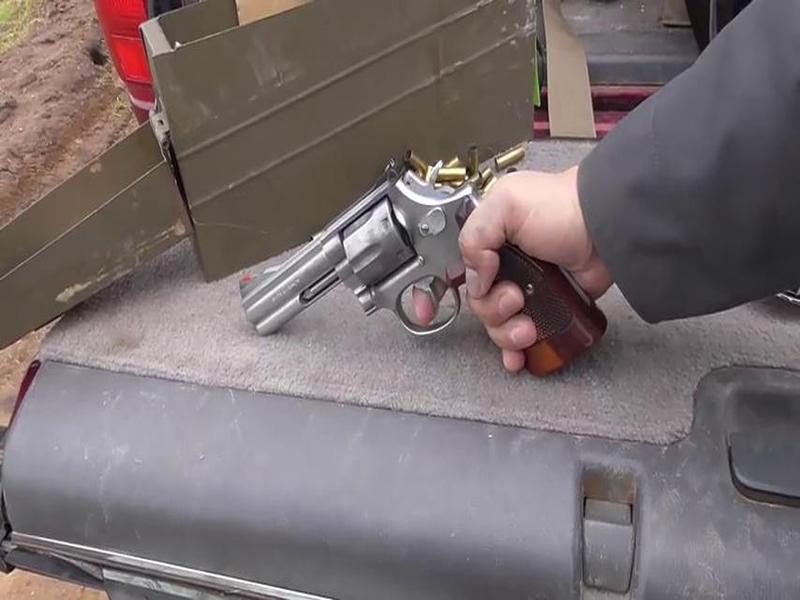Revolver: (231, 140, 589, 437)
